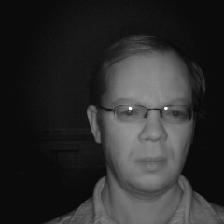normal: (86, 36, 205, 201)
